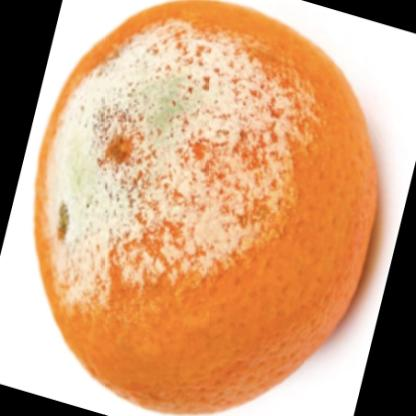rotten: (35, 1, 379, 416)
